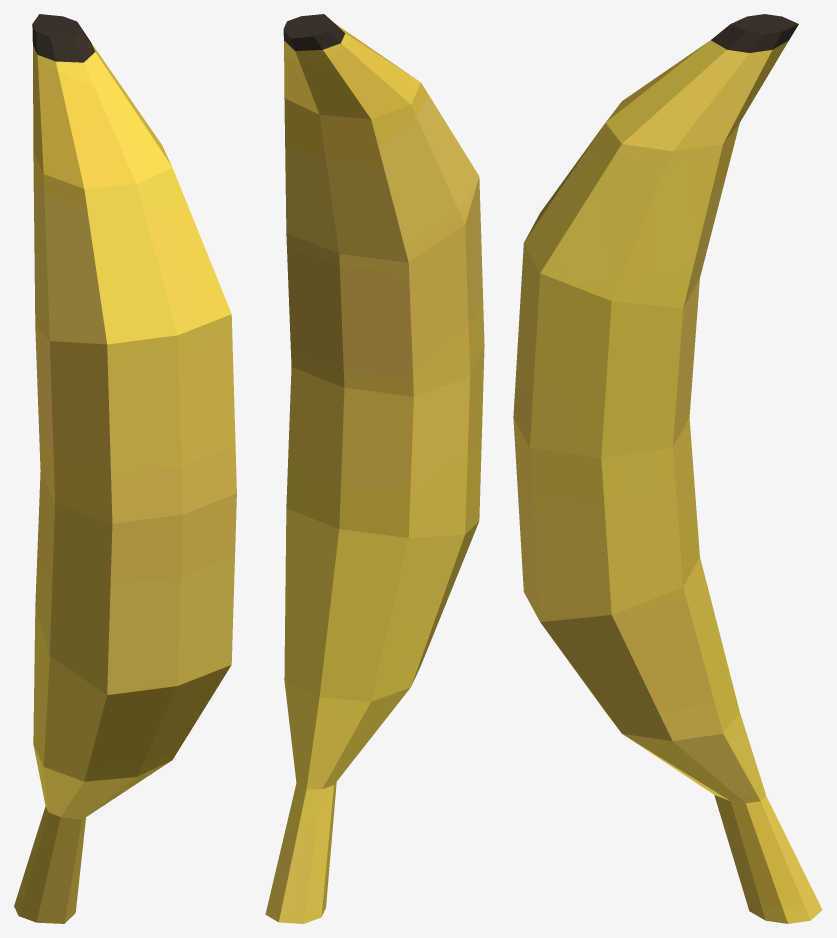
The model's file is Banana.obj.
The picture shows the model from 3 angles, left to right: view 1: azimuth 30°, elevation 25°; view 2: azimuth 150°, elevation 25°; view 3: azimuth 270°, elevation 25°; orthographic projection.
Size of the model in its own units: 39.71 by 202 by 63.86.
